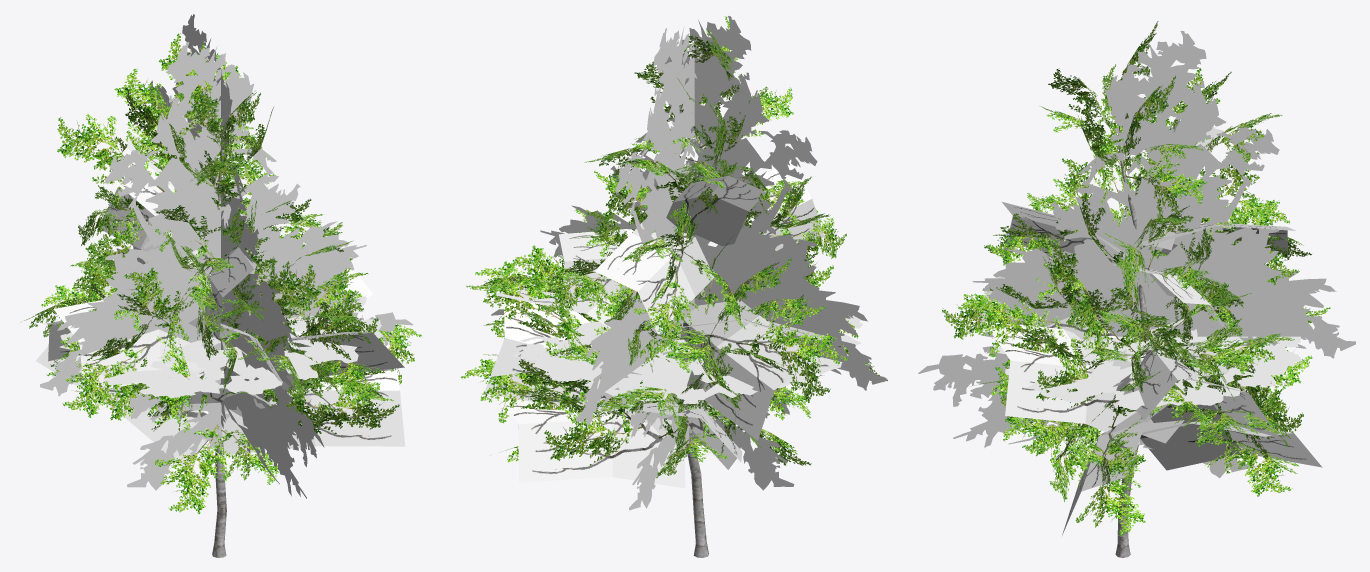
Rendered from tree1.dae.
3 renders of one model, left to right at view 1: azimuth 30°, elevation 25°; view 2: azimuth 150°, elevation 25°; view 3: azimuth 270°, elevation 25°, orthographic. The views are drawn at different scales.
Parts seen in each view (by area): view 1: shadow_vert (×2), leaves_sp_p (×39), branch_bare (×11), group_0, FF_Model_ID4692_1_silverbirch_6m_spring; view 2: branch_bare (×10), shadow_vert (×2), leaves_sp_p (×36), group_0, FF_Model_ID4692_1_silverbirch_6m_spring; view 3: shadow_vert, leaves_sp_p (×45), branch_bare (×11), group_0, FF_Model_ID4692_1_silverbirch_6m_spring.
Part boxes in pixels (x1,y1,x2,y2): shadow_vert (×2): (40,14,413,498); leaves_sp_p (×39): (24,33,422,513); branch_bare (×11): (36,130,405,466); group_0: (59,283,382,398); FF_Model_ID4692_1_silverbirch_6m_spring: (212,150,226,557); branch_bare (×10): (485,160,848,488); shadow_vert (×2): (491,16,886,510); leaves_sp_p (×36): (461,30,846,477); group_0: (513,315,863,403); FF_Model_ID4692_1_silverbirch_6m_spring: (683,141,708,557); shadow_vert: (918,31,1355,478); leaves_sp_p (×45): (942,68,1303,535); branch_bare (×11): (974,120,1322,535); group_0: (991,334,1302,410); FF_Model_ID4692_1_silverbirch_6m_spring: (1115,145,1149,557).
Size of the model in its own units: 237 by 231 by 306.
Materials: 4 (4 with a texture image).
